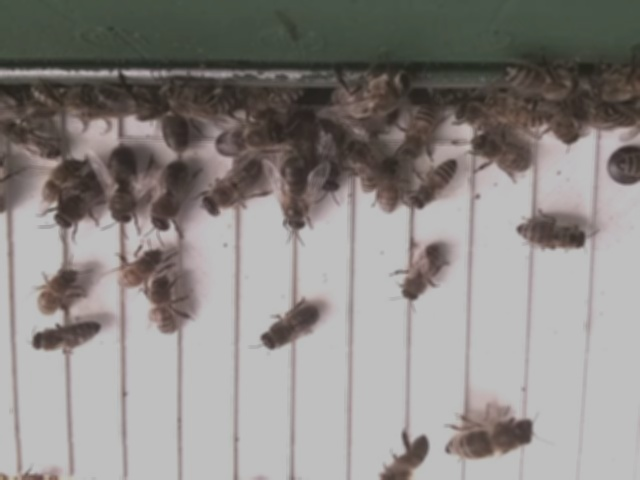Drone: (198, 156, 266, 219), (51, 167, 108, 233), (145, 158, 192, 236), (258, 303, 321, 356), (210, 120, 286, 161), (104, 145, 140, 230), (278, 152, 313, 237), (314, 116, 345, 203)
Worker: (451, 419, 530, 464), (467, 130, 534, 176), (407, 156, 458, 214), (511, 217, 590, 254), (0, 118, 63, 163), (398, 243, 441, 307), (26, 320, 102, 356), (398, 102, 441, 162), (33, 268, 79, 320), (146, 274, 181, 338), (112, 249, 160, 295), (343, 138, 379, 196), (373, 160, 403, 220)
